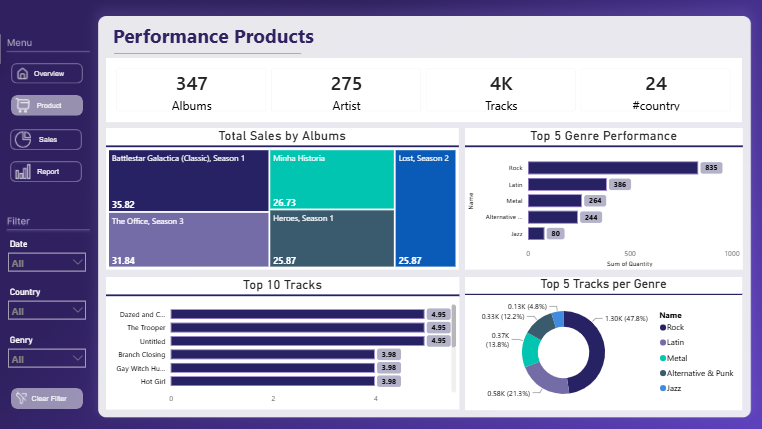

The page's visual inventory and layout, read from the dashboard file:
{"tool":"powerbi","page":{"name":"Products","canvas":[1280,720],"ordinal":1},"visuals":[{"type":"actionButton","box":[20,159.5,120,34.7],"z":0},{"type":"actionButton","box":[20,106.7,120,34.4],"z":1000},{"type":"actionButton","box":[18.9,216.8,120,35.3],"z":2000},{"type":"actionButton","box":[18.9,270.5,120,35.3],"z":3000},{"type":"actionButton","box":[19.2,648.3,120,35],"z":4000},{"type":"textbox","box":[184.3,32.9,358.6,65.7],"z":5000},{"type":"barChart","title":"Top 10 Tracks","fields":{"Category":["track.Name"],"Y":["Dax Measures.total sales"]},"box":[178.6,462.9,588.6,221.4],"z":6000},{"type":"treemap","title":"Total Sales by Albums","fields":{"Group":["album.Title"],"Values":["Dax Measures.total sales"]},"box":[178.8,215,587.5,236.2],"z":7000},{"type":"barChart","title":"Top 5 Genre Performance","fields":{"Category":["genre.Name"],"Y":["Sum(invoiceline.Quantity)"]},"box":[776.2,215,462.5,236.2],"z":8000},{"type":"donutChart","title":"Top 5 Tracks per Genre","fields":{"Category":["genre.Name"],"Y":["Dax Measures.Tracks"]},"box":[776.7,463.3,461.7,221.7],"z":9000},{"type":"cardVisual","fields":{"Data":["Dax Measures.Albums","Dax Measures.Artist","Dax Measures.Tracks","Dax Measures.#country"]},"box":[178.3,98.3,1060,106.7],"z":10000},{"type":"slicer","fields":{"Values":["employee.HireDate.Variation.Date Hierarchy.Year","employee.HireDate.Variation.Date Hierarchy.Month","employee.HireDate.Variation.Date Hierarchy.Day"]},"box":[5,395,150,66.7],"z":11000},{"type":"slicer","fields":{"Values":["invoice.BillingCountry"]},"box":[5.7,475.7,150,67.1],"z":12000},{"type":"slicer","fields":{"Values":["genre.Name"]},"box":[5.7,555.7,150,62.9],"z":13000}]}

Visuals, with their boxes on the page's 1280x720 design canvas (x1, y1, x2, y2). These are canvas units, not pixel positions in the 762x429 screenshot, which may show the page scaled, cropped or inside an application window:
actionButton: left=20, top=160, right=140, bottom=194
actionButton: left=20, top=107, right=140, bottom=141
actionButton: left=19, top=217, right=139, bottom=252
actionButton: left=19, top=270, right=139, bottom=306
actionButton: left=19, top=648, right=139, bottom=683
textbox: left=184, top=33, right=543, bottom=99
"Top 10 Tracks" barChart: left=179, top=463, right=767, bottom=684
"Total Sales by Albums" treemap: left=179, top=215, right=766, bottom=451
"Top 5 Genre Performance" barChart: left=776, top=215, right=1239, bottom=451
"Top 5 Tracks per Genre" donutChart: left=777, top=463, right=1238, bottom=685
cardVisual - Dax Measures.Albums x Dax Measures.Artist: left=178, top=98, right=1238, bottom=205
slicer - employee.HireDate.Variation.Date Hierarchy.Year x employee.HireDate.Variation.Date Hierarchy.Month: left=5, top=395, right=155, bottom=462
slicer - invoice.BillingCountry: left=6, top=476, right=156, bottom=543
slicer - genre.Name: left=6, top=556, right=156, bottom=619
